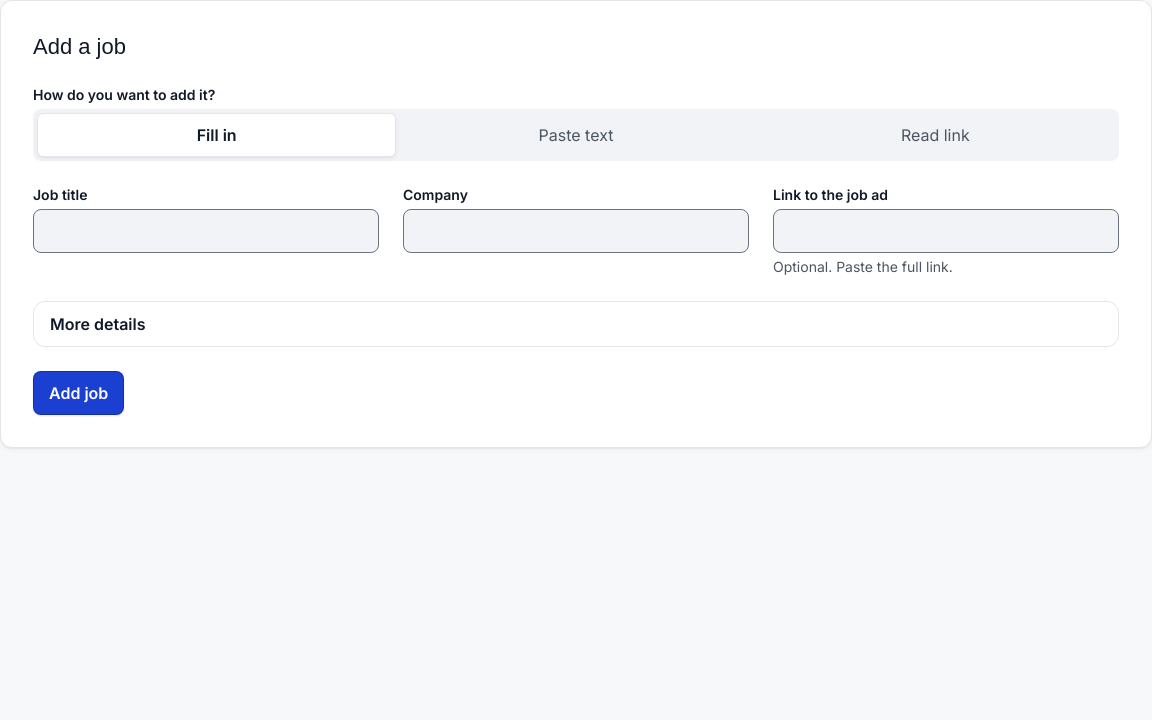
Test: AddJob › checks the link before sending it
Step 1. Click the radio button labelled "Read link" → click(935, 134), box [756,112,1115,156]
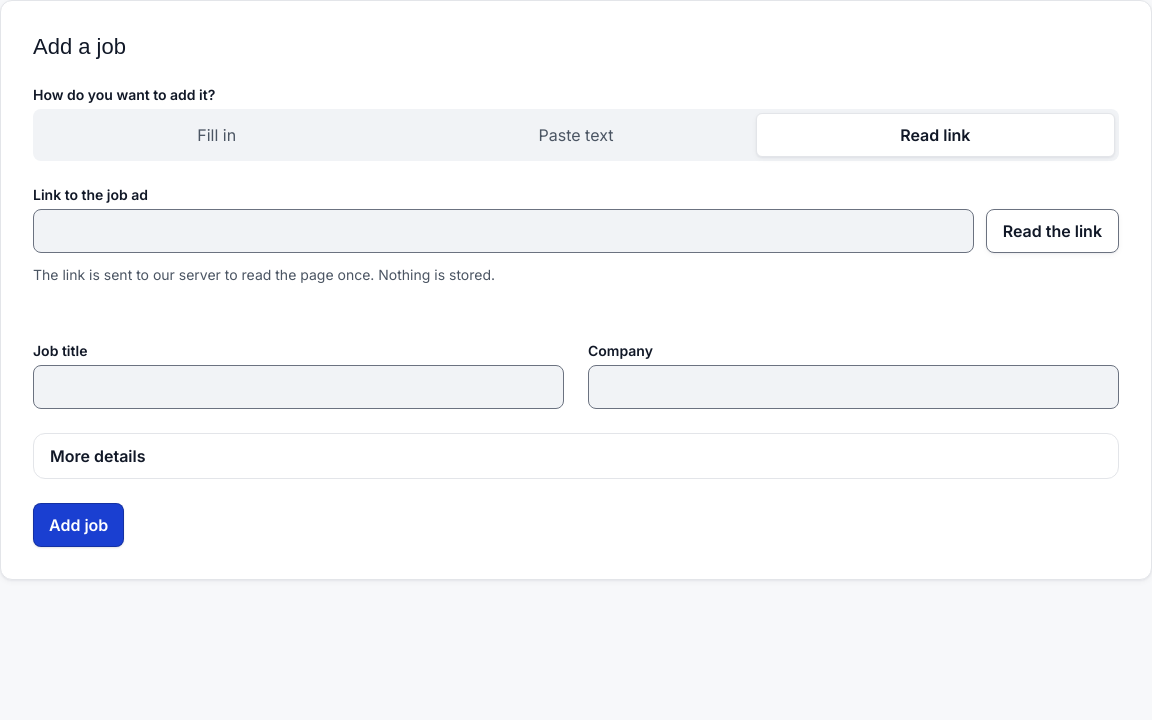
Step 2. Type "nope" into the field labelled "Link to the job ad" → (503, 230), box [33,208,974,252]
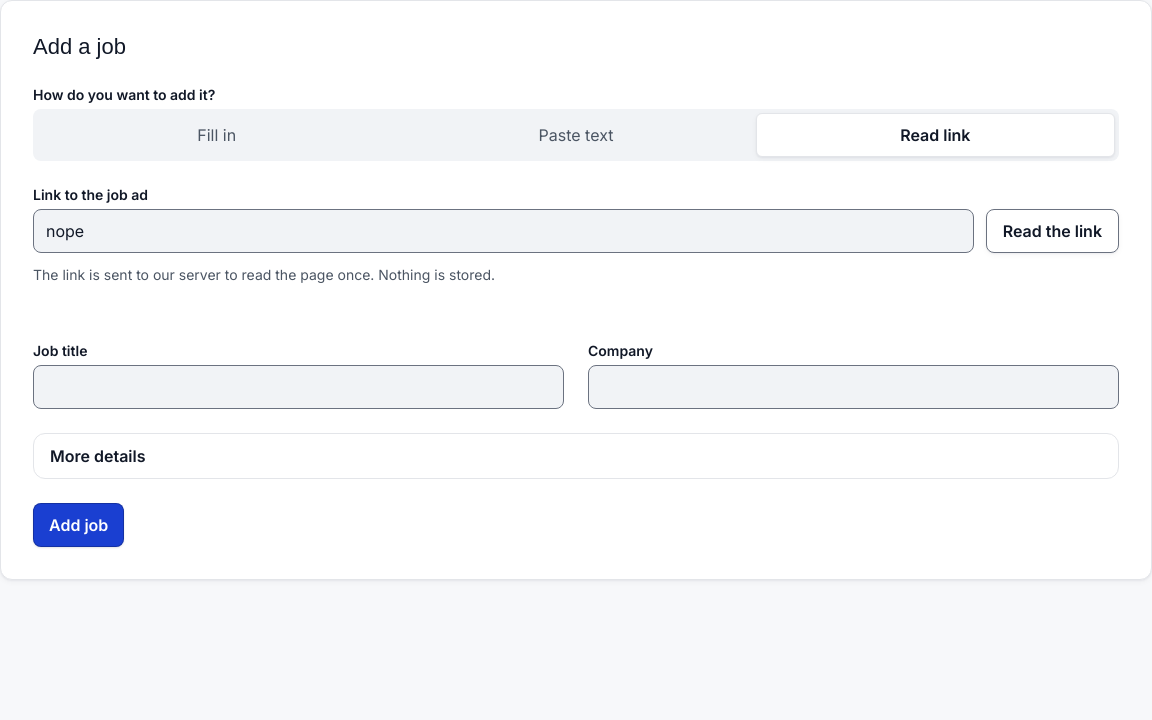
Step 3. Click the button "Read the link" → click(1052, 230), box [986,208,1119,252]
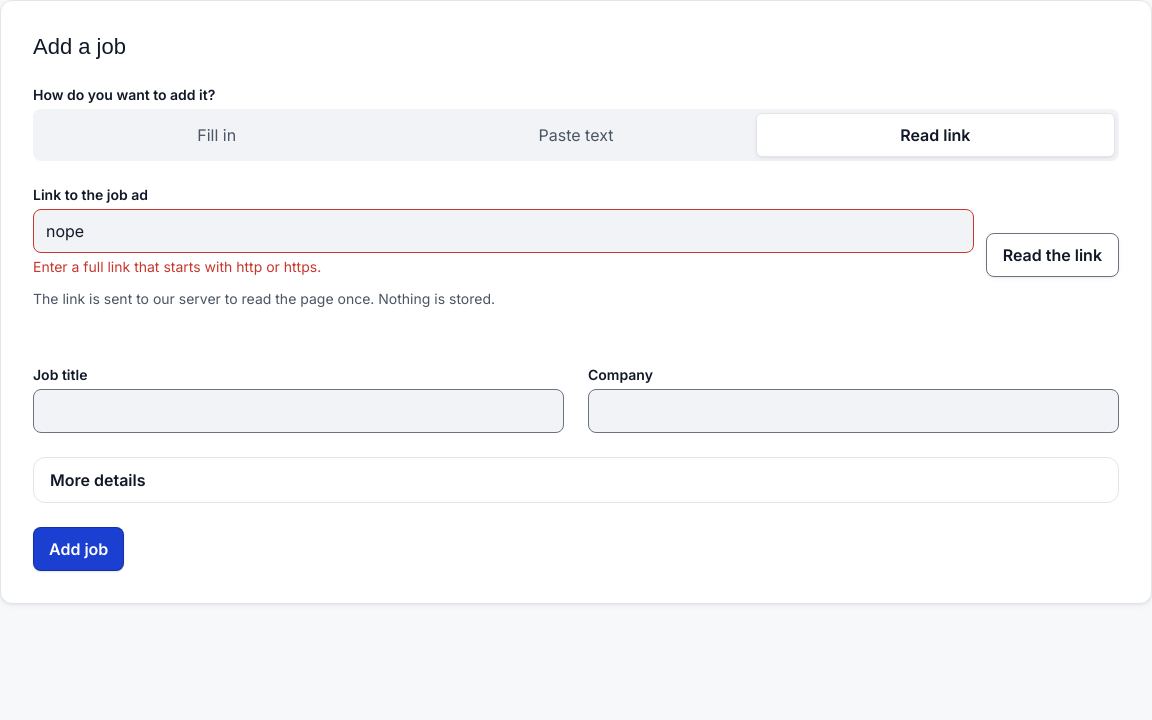
Expected: the text "Enter a full link that starts with http or https." is shown, [33,258,321,274]
